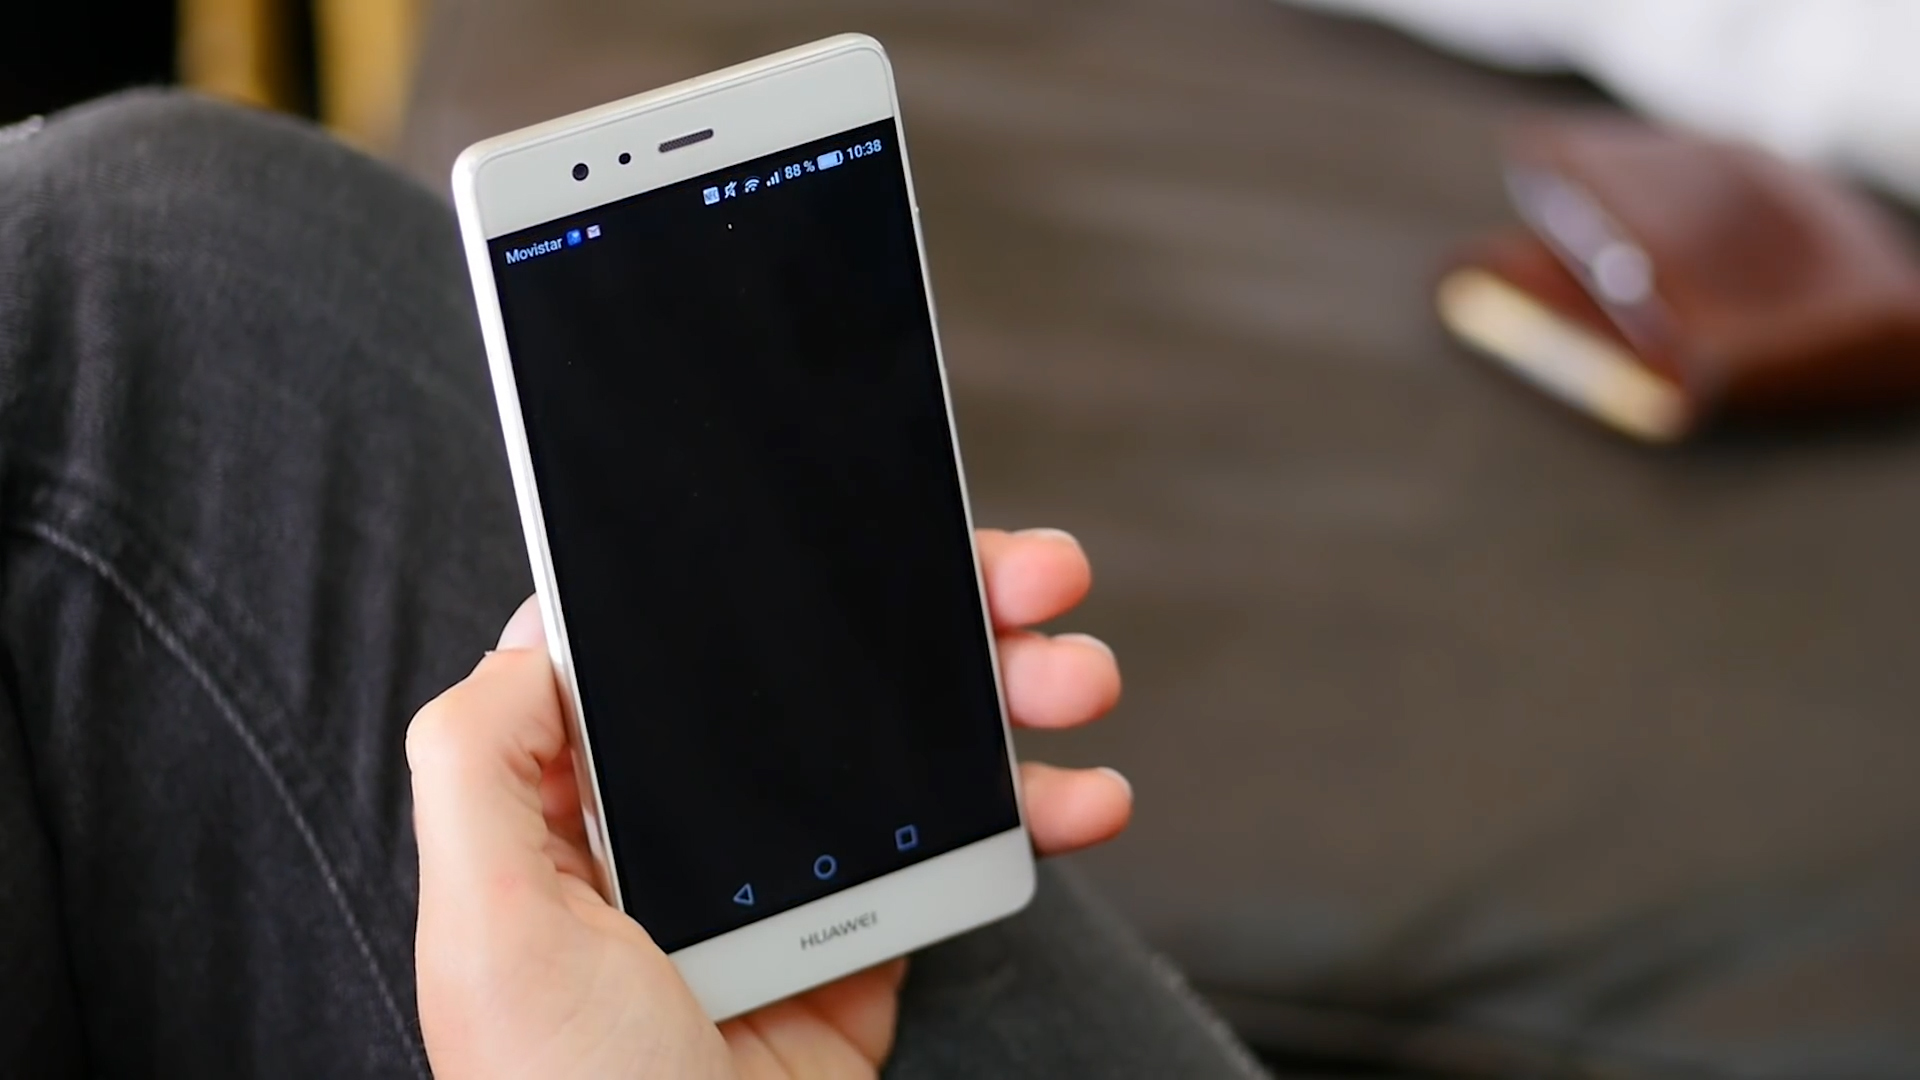smartphone: (444, 26, 1044, 1030)
